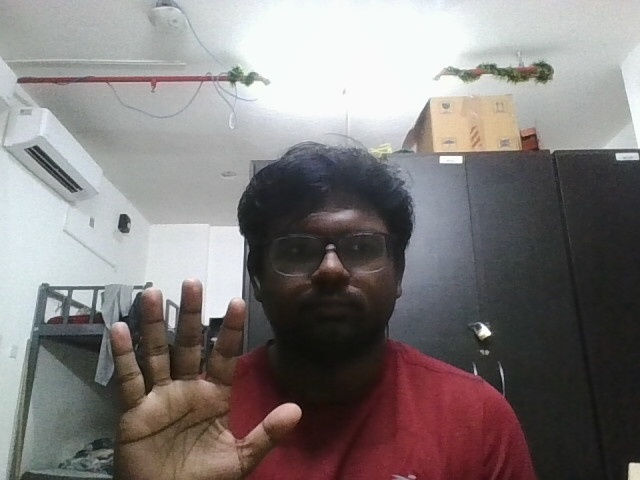Hello: (102, 274, 309, 479)
